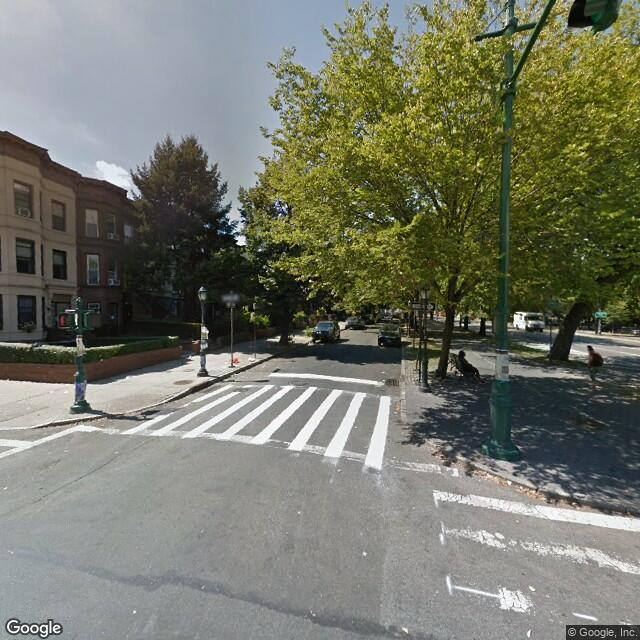litter: (363, 550, 370, 557), (382, 371, 387, 377), (130, 610, 136, 615), (392, 409, 397, 413)
